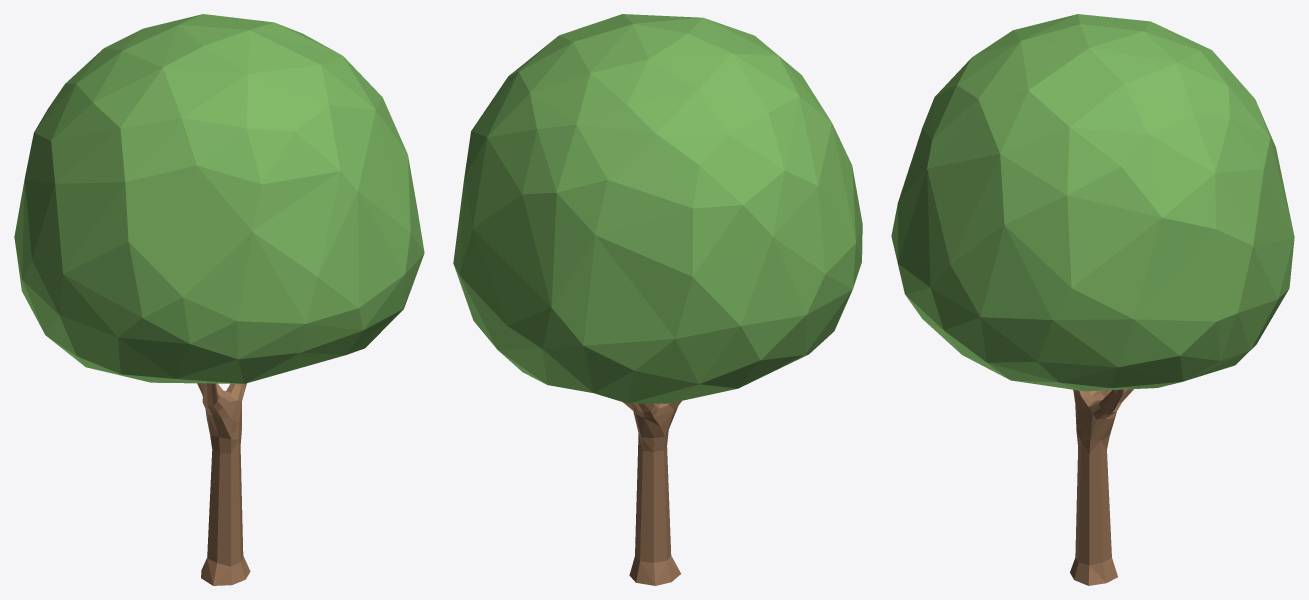
The model's file is Maple-Tree-1-Green.fbx.
3 views of the same model, side by side, from view 1: azimuth 30°, elevation 25°; view 2: azimuth 150°, elevation 25°; view 3: azimuth 270°, elevation 25° (orthographic).
Visible parts, largest first — view 1: MapleTree1GreenLeaves, MapleTree1Trunk; view 2: MapleTree1GreenLeaves, MapleTree1Trunk; view 3: MapleTree1GreenLeaves, MapleTree1Trunk.
Boxes of the visible parts, <box> form: MapleTree1GreenLeaves: <box>14,14,424,383</box>; MapleTree1Trunk: <box>197,383,250,585</box>; MapleTree1GreenLeaves: <box>453,14,862,403</box>; MapleTree1Trunk: <box>623,401,681,585</box>; MapleTree1GreenLeaves: <box>891,14,1294,391</box>; MapleTree1Trunk: <box>1070,389,1133,585</box>.
Size of the model in its own units: 12.53 by 18.33 by 12.46.
